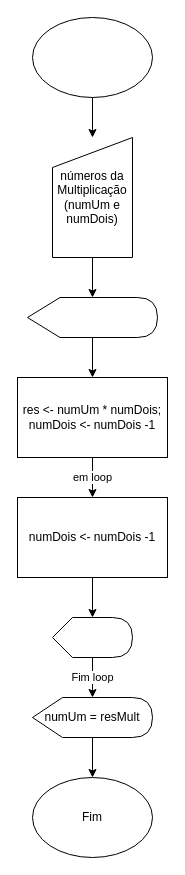
Some shapes in this 185 by 875 pixel diagram are drawn without their labels. The centre of each missing label's shape, as x and y in pixels:
"Início" goes at point 92,57.
"numUm * numDois =" goes at point 92,317.
"numUm +" goes at point 92,637.
